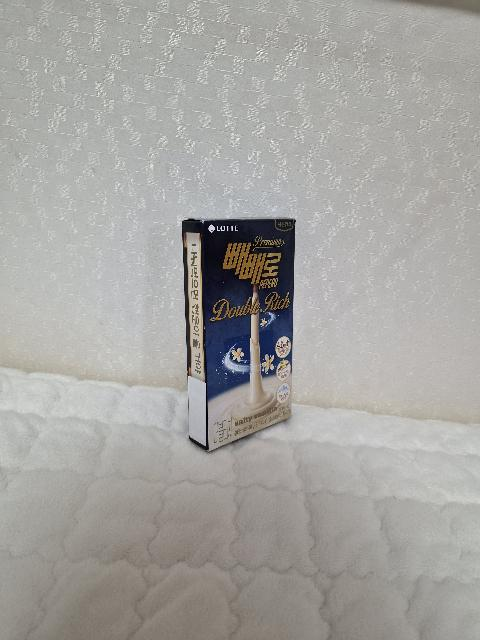pepero: (182, 217, 296, 452)
